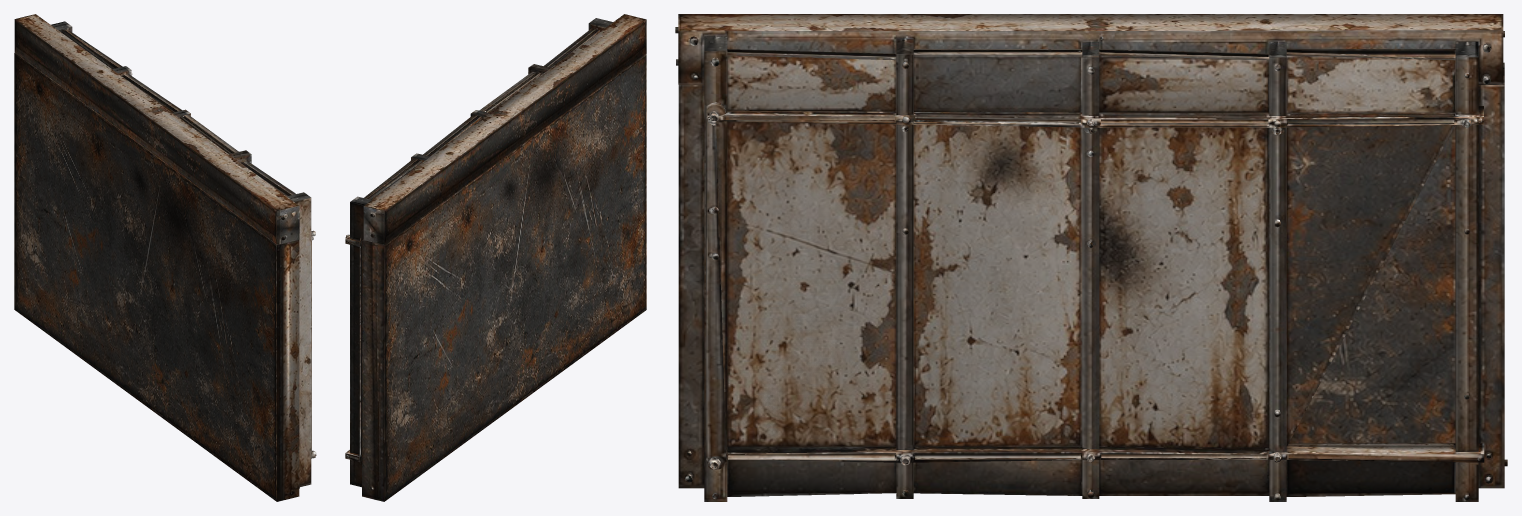
The model's file is Kitchen Walls - Damaged.glb.
3 renders of one model, left to right at view 1: azimuth 30°, elevation 25°; view 2: azimuth 150°, elevation 25°; view 3: azimuth 270°, elevation 25°, orthographic. The views are drawn at different scales.
Parts seen in each view (by area): view 1: tripo_5295d674_dca2_4971_a5c3_62d0854f510e; view 2: tripo_5295d674_dca2_4971_a5c3_62d0854f510e; view 3: tripo_5295d674_dca2_4971_a5c3_62d0854f510e.
Part boxes in pixels (left/top/right/bottom): tripo_5295d674_dca2_4971_a5c3_62d0854f510e: left=14, top=14, right=316, bottom=501; tripo_5295d674_dca2_4971_a5c3_62d0854f510e: left=345, top=14, right=646, bottom=501; tripo_5295d674_dca2_4971_a5c3_62d0854f510e: left=675, top=14, right=1507, bottom=501.
Bounding box in the file's own units: 0.1089 × 0.606 × 0.9995.
1 material, 1 textured.
